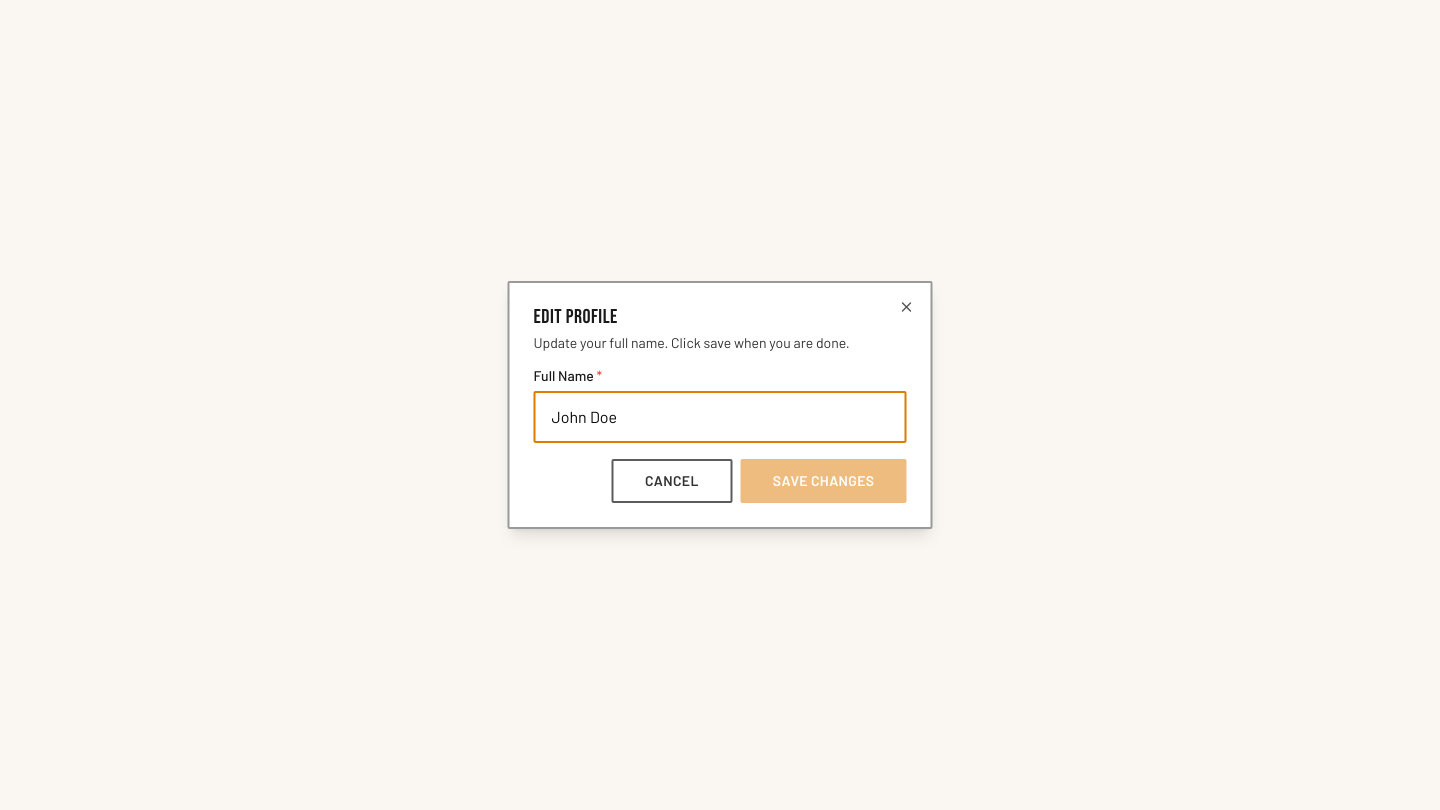
it: ProfileEditor › Validation › should show error for name less than 2 characters
Replace the text in the field labelled "Full Name *" with "A": (720, 417) [534,391,906,443]
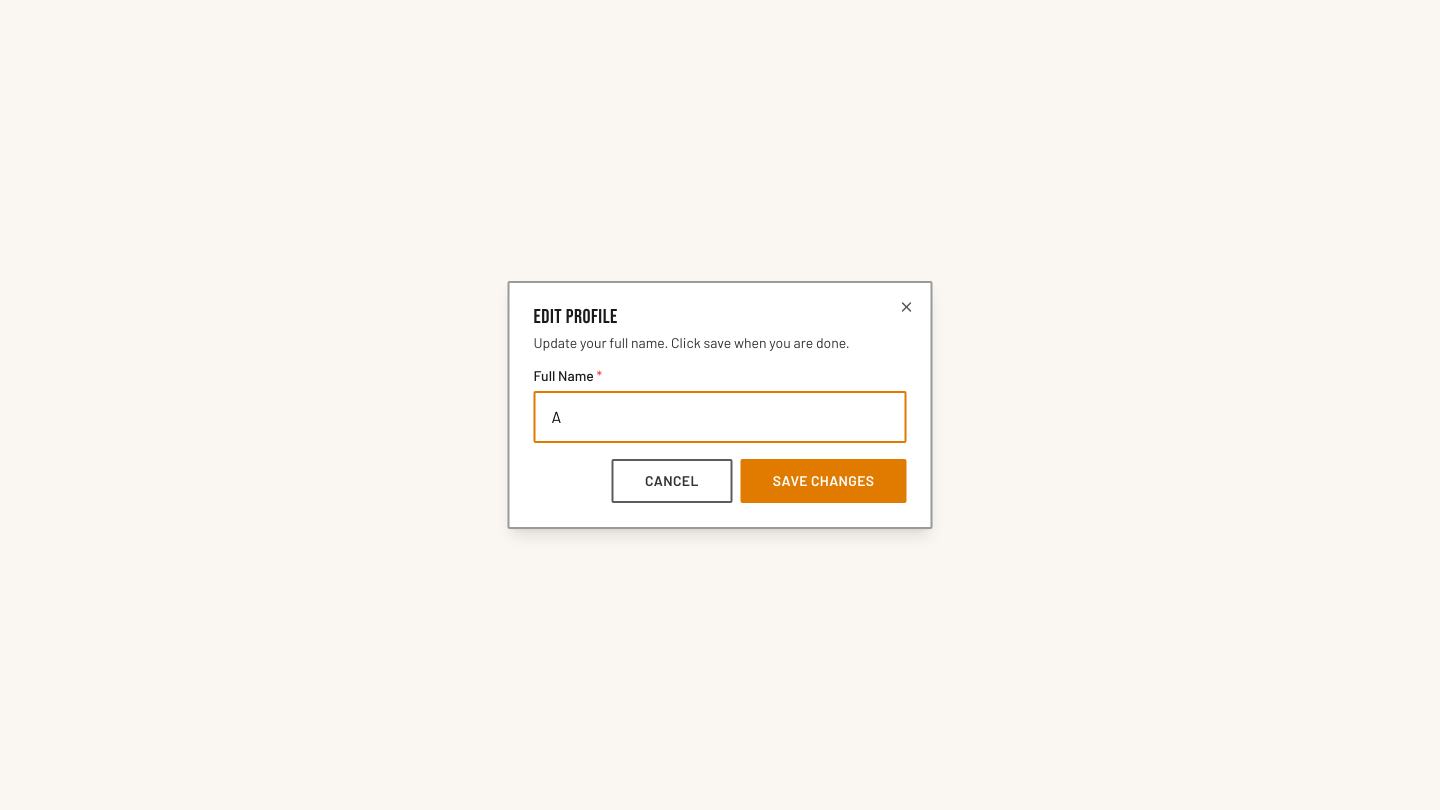
# Try to submit to trigger validation
Click the button "Save changes": (824, 481) [741,459,906,503]
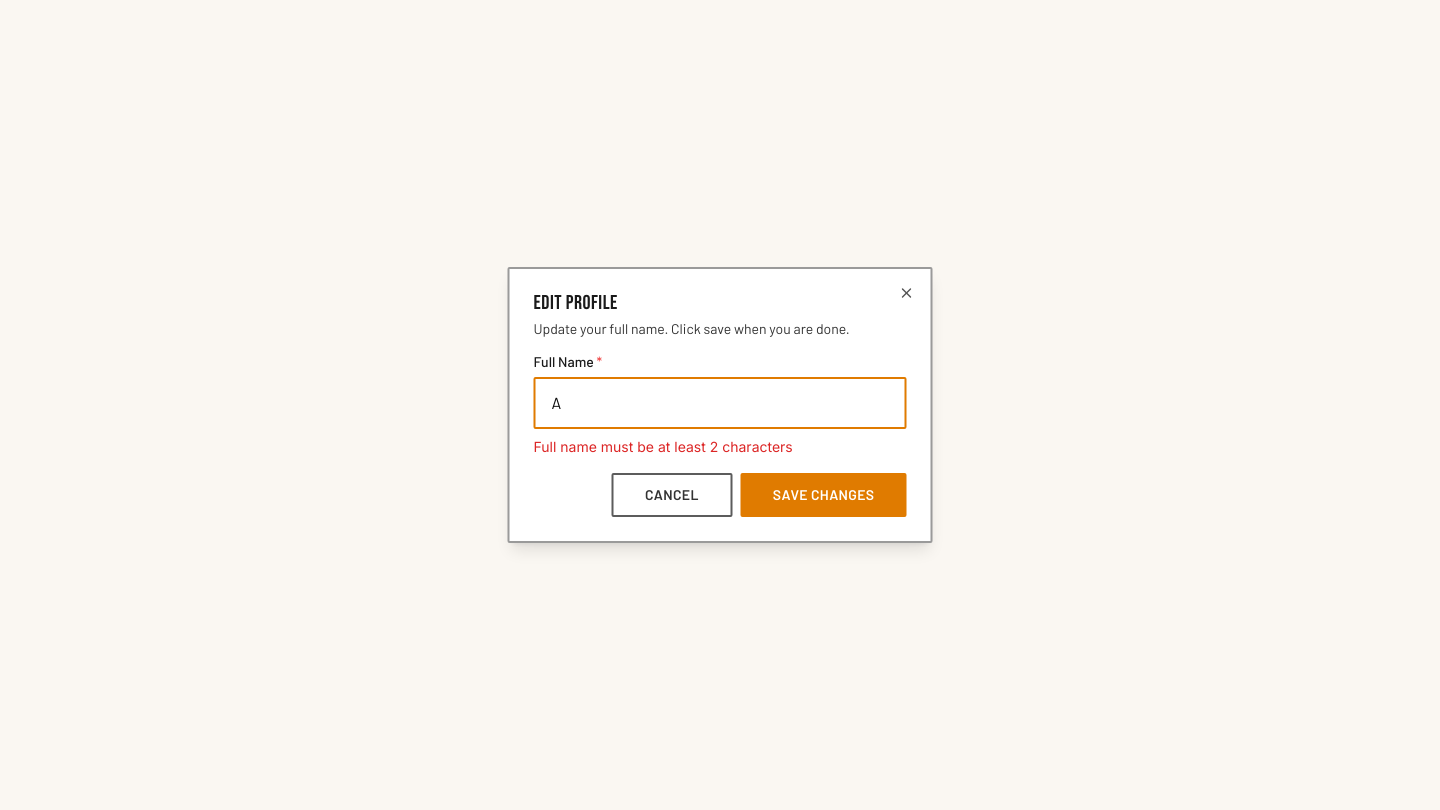
Expected: the text "Full name must be at least 2 characters" is shown, [534,438,793,455]
